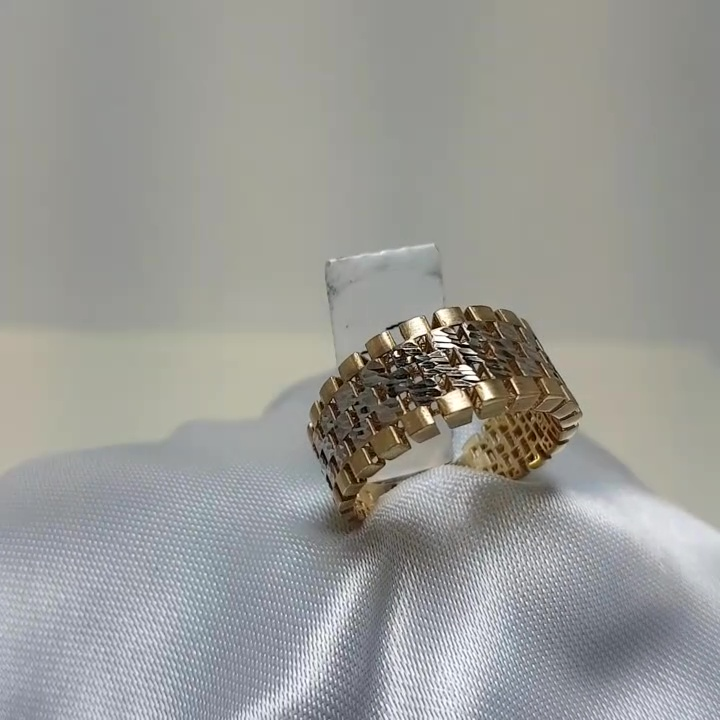Ring 1: (296, 283, 585, 540)
